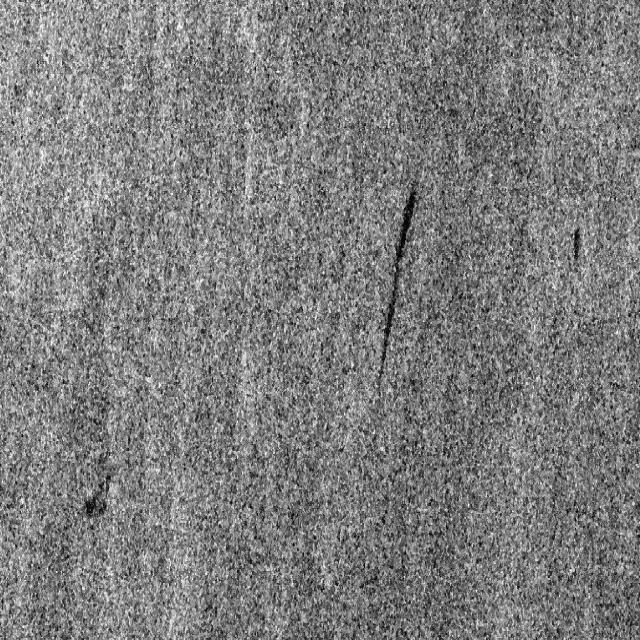look-alike: (76, 470, 114, 524), (564, 217, 587, 266)
oil-spill: (368, 174, 424, 396)
